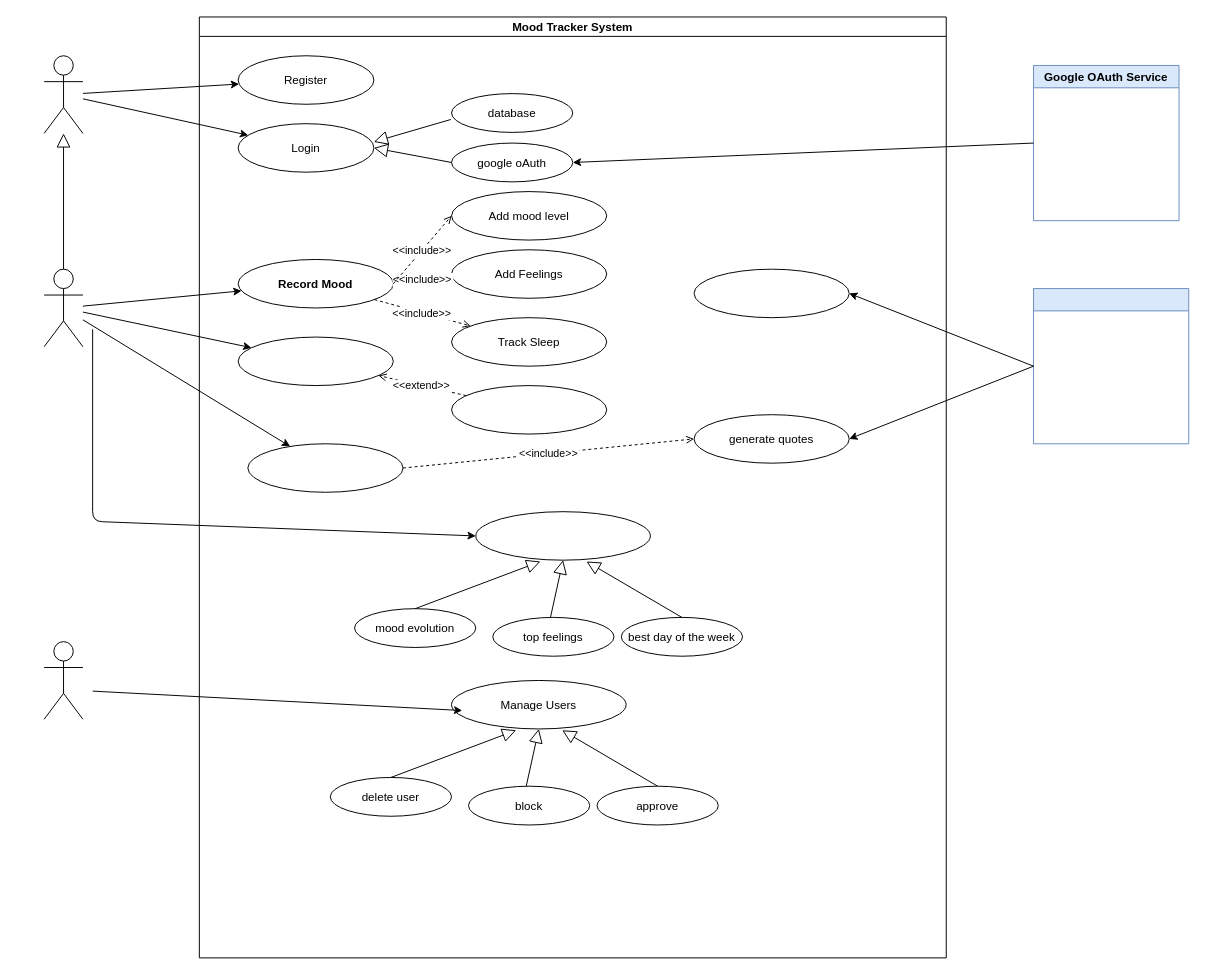
The diagram is 1207 pixels wide and 975 high, and some of its shapes have lost their labels. The shapes that lost their labels are listed below. From the top down, each one's centre as x and y in pixels, then its label:
At point (63, 94): "Unregistered User".
At point (63, 307): "User".
At point (771, 293): "Analyse Journal".
At point (315, 361): "View Graph".
At point (1111, 366): "Gemini Service".
At point (529, 409): "View Details".
At point (325, 467): "Get Quotes".
At point (562, 535): "View Analytics".
At point (63, 680): "Admin".
